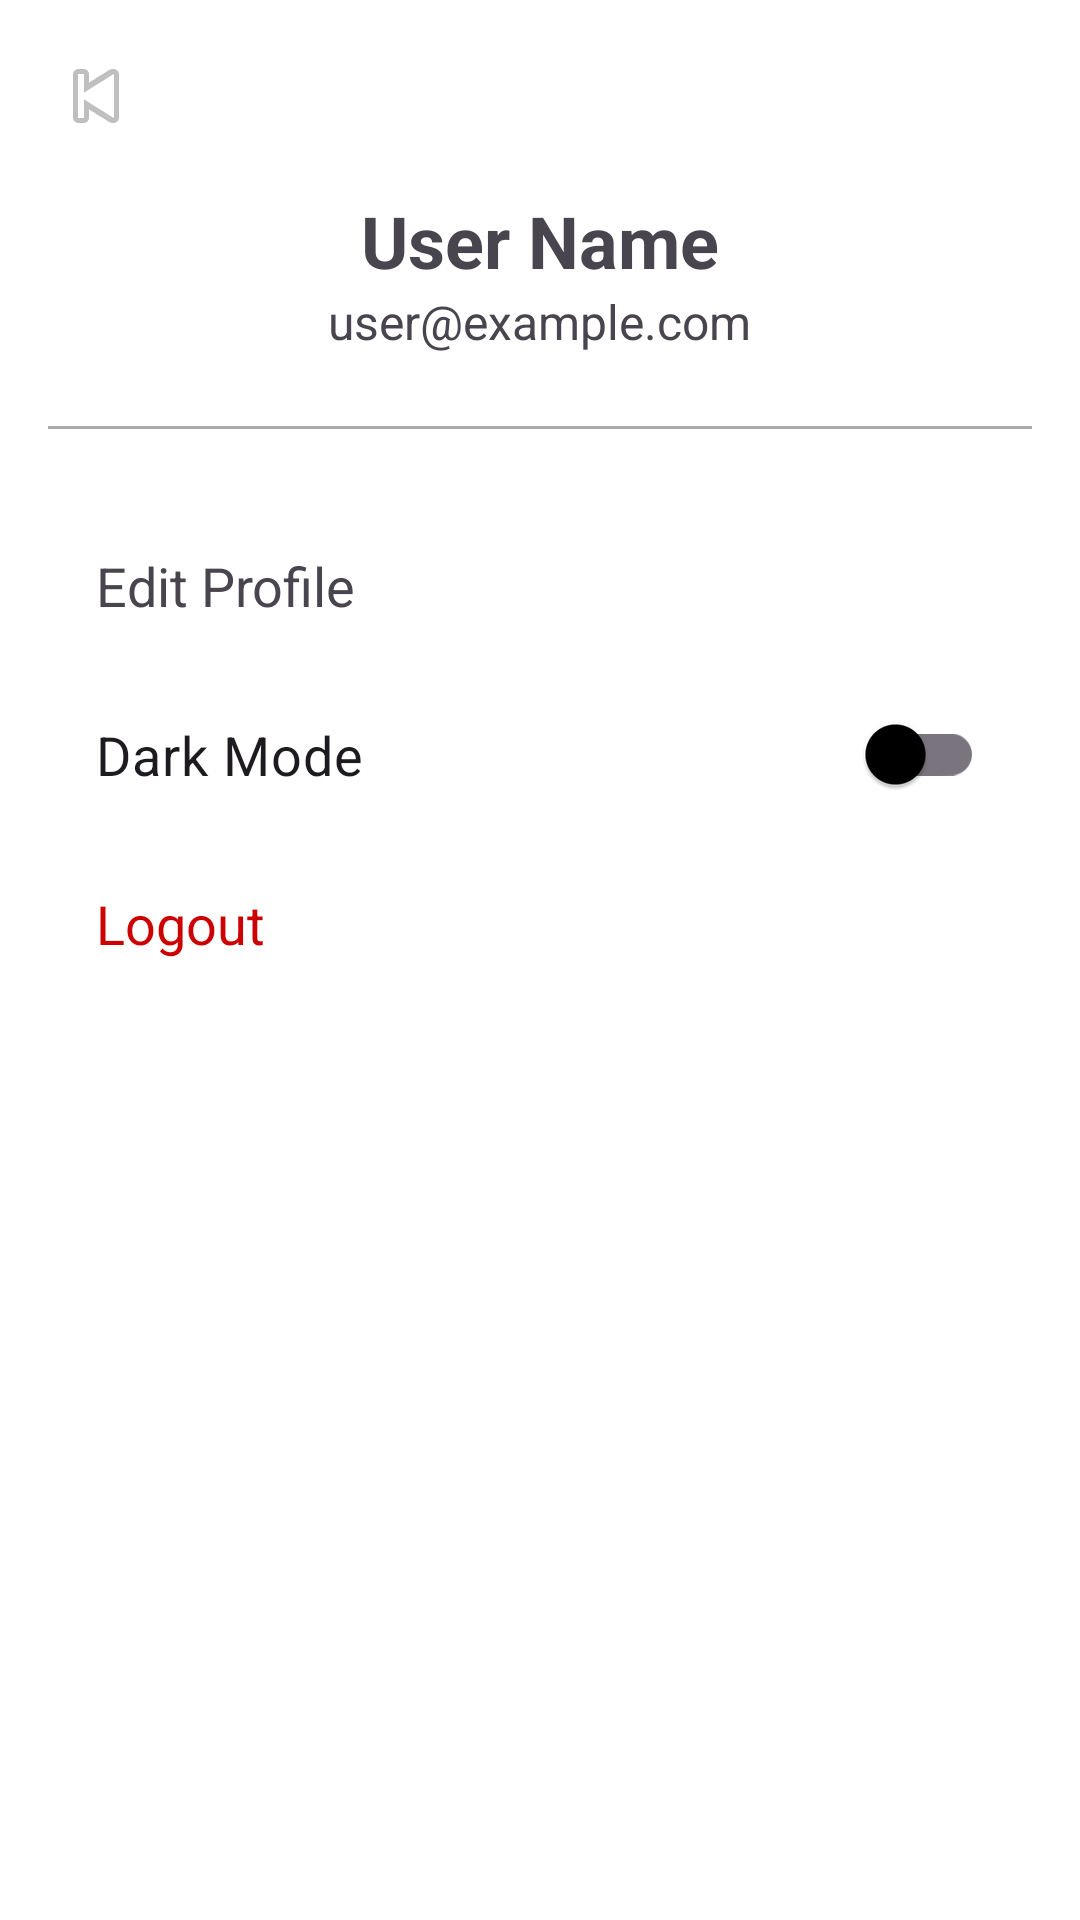

Icon bounding boxes for this 1080x1920 phone screenshot, format (x1, y1, x2, y2):
previous: (73, 69, 119, 123)
